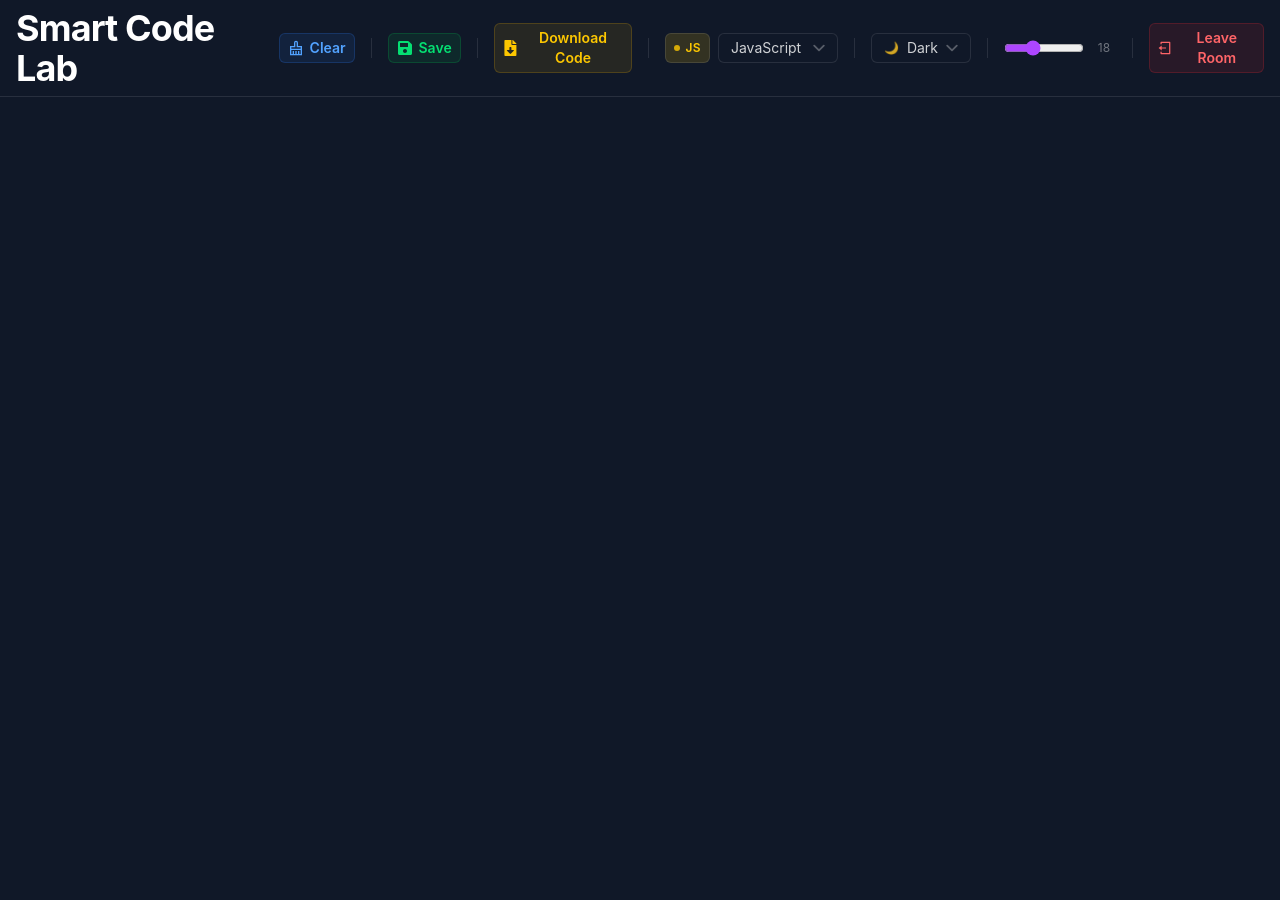
it: Navbar — theme dropdown › closes theme dropdown on outside click
Click the button "🌙 Dark": (921, 48) x1=871 y1=33 x2=971 y2=63
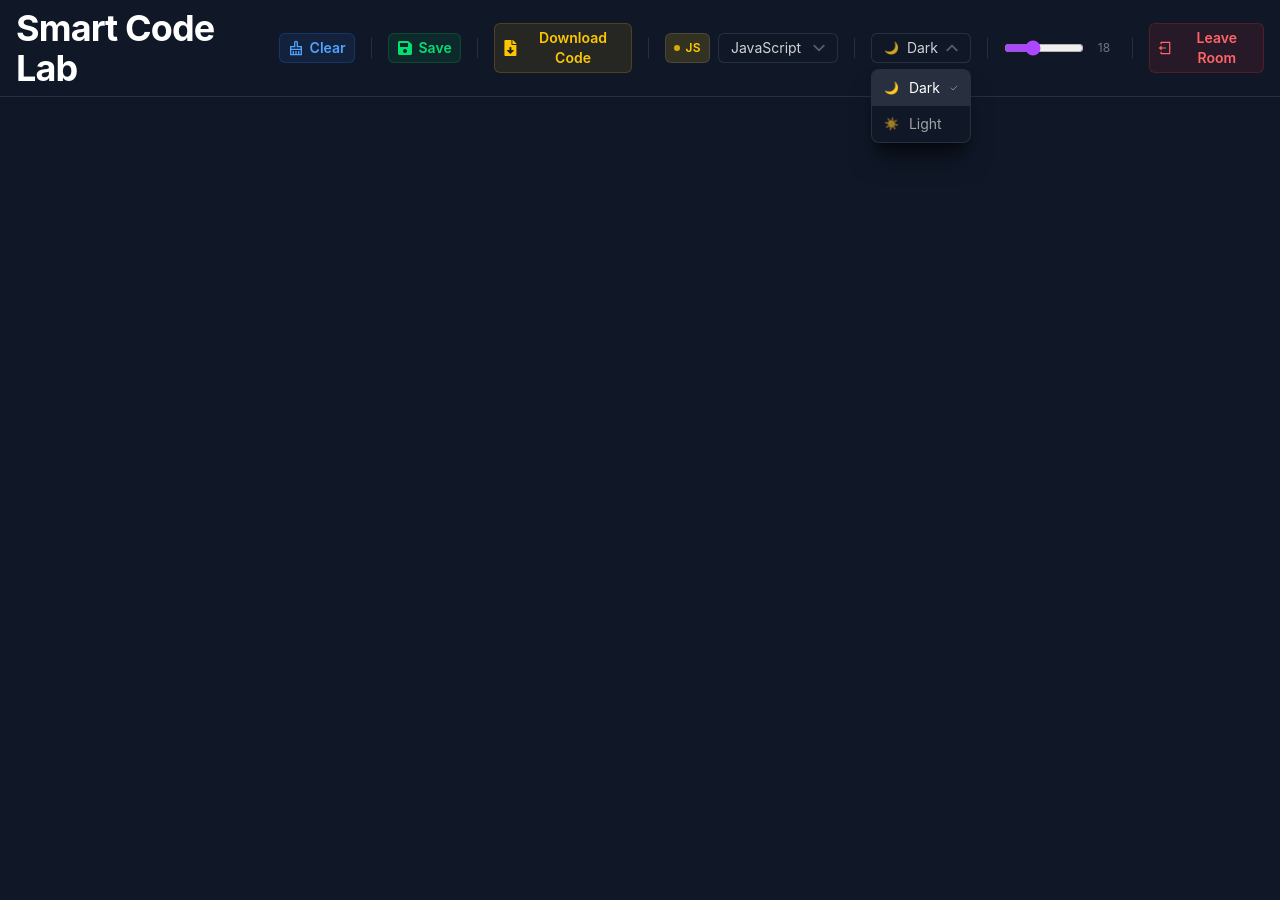
Press the mouse on the element that starts with "Smart Code Lab": (640, 450) x1=0 y1=0 x2=1279 y2=899
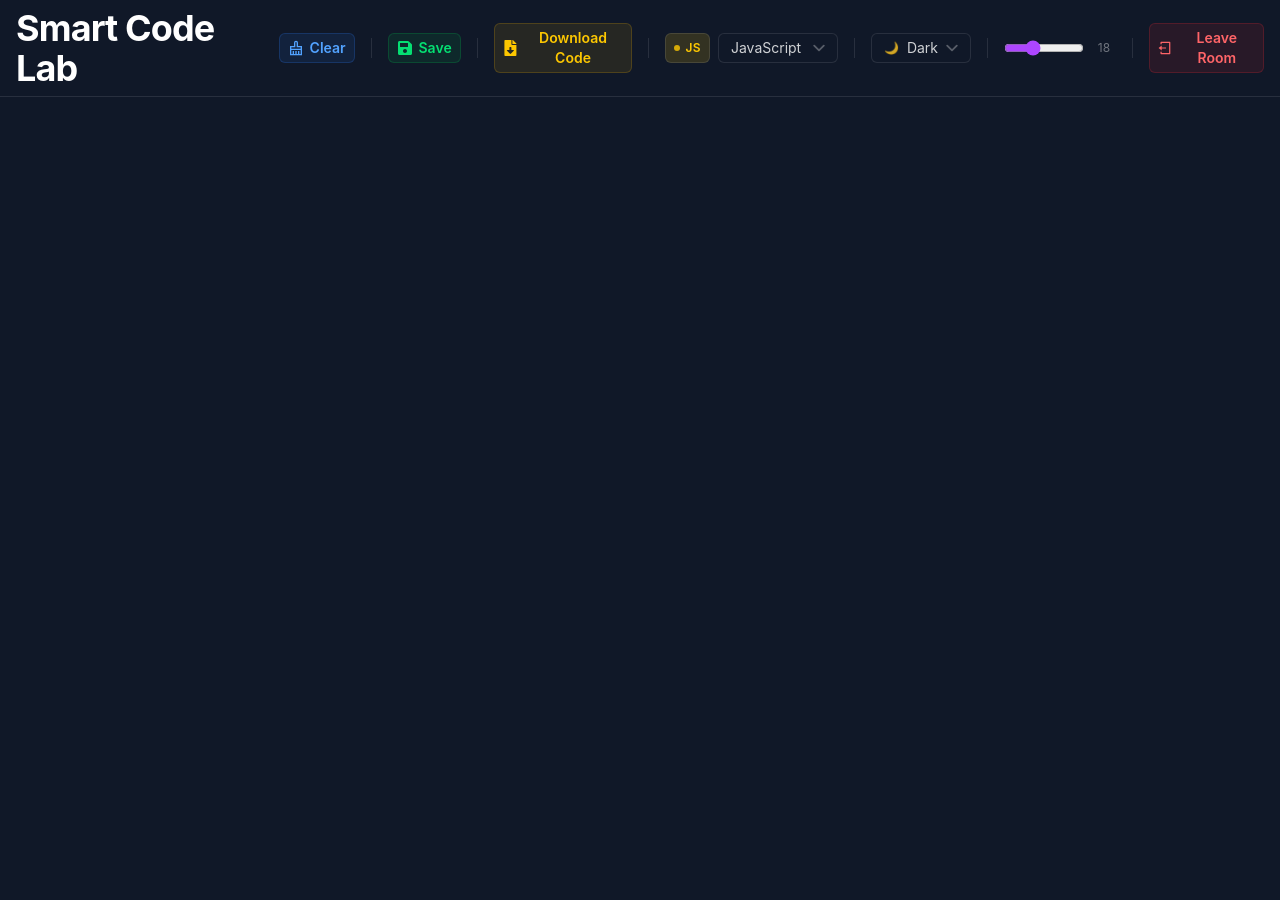
Check: the text "Dark" is shown once, box x1=907 y1=38 x2=938 y2=58
